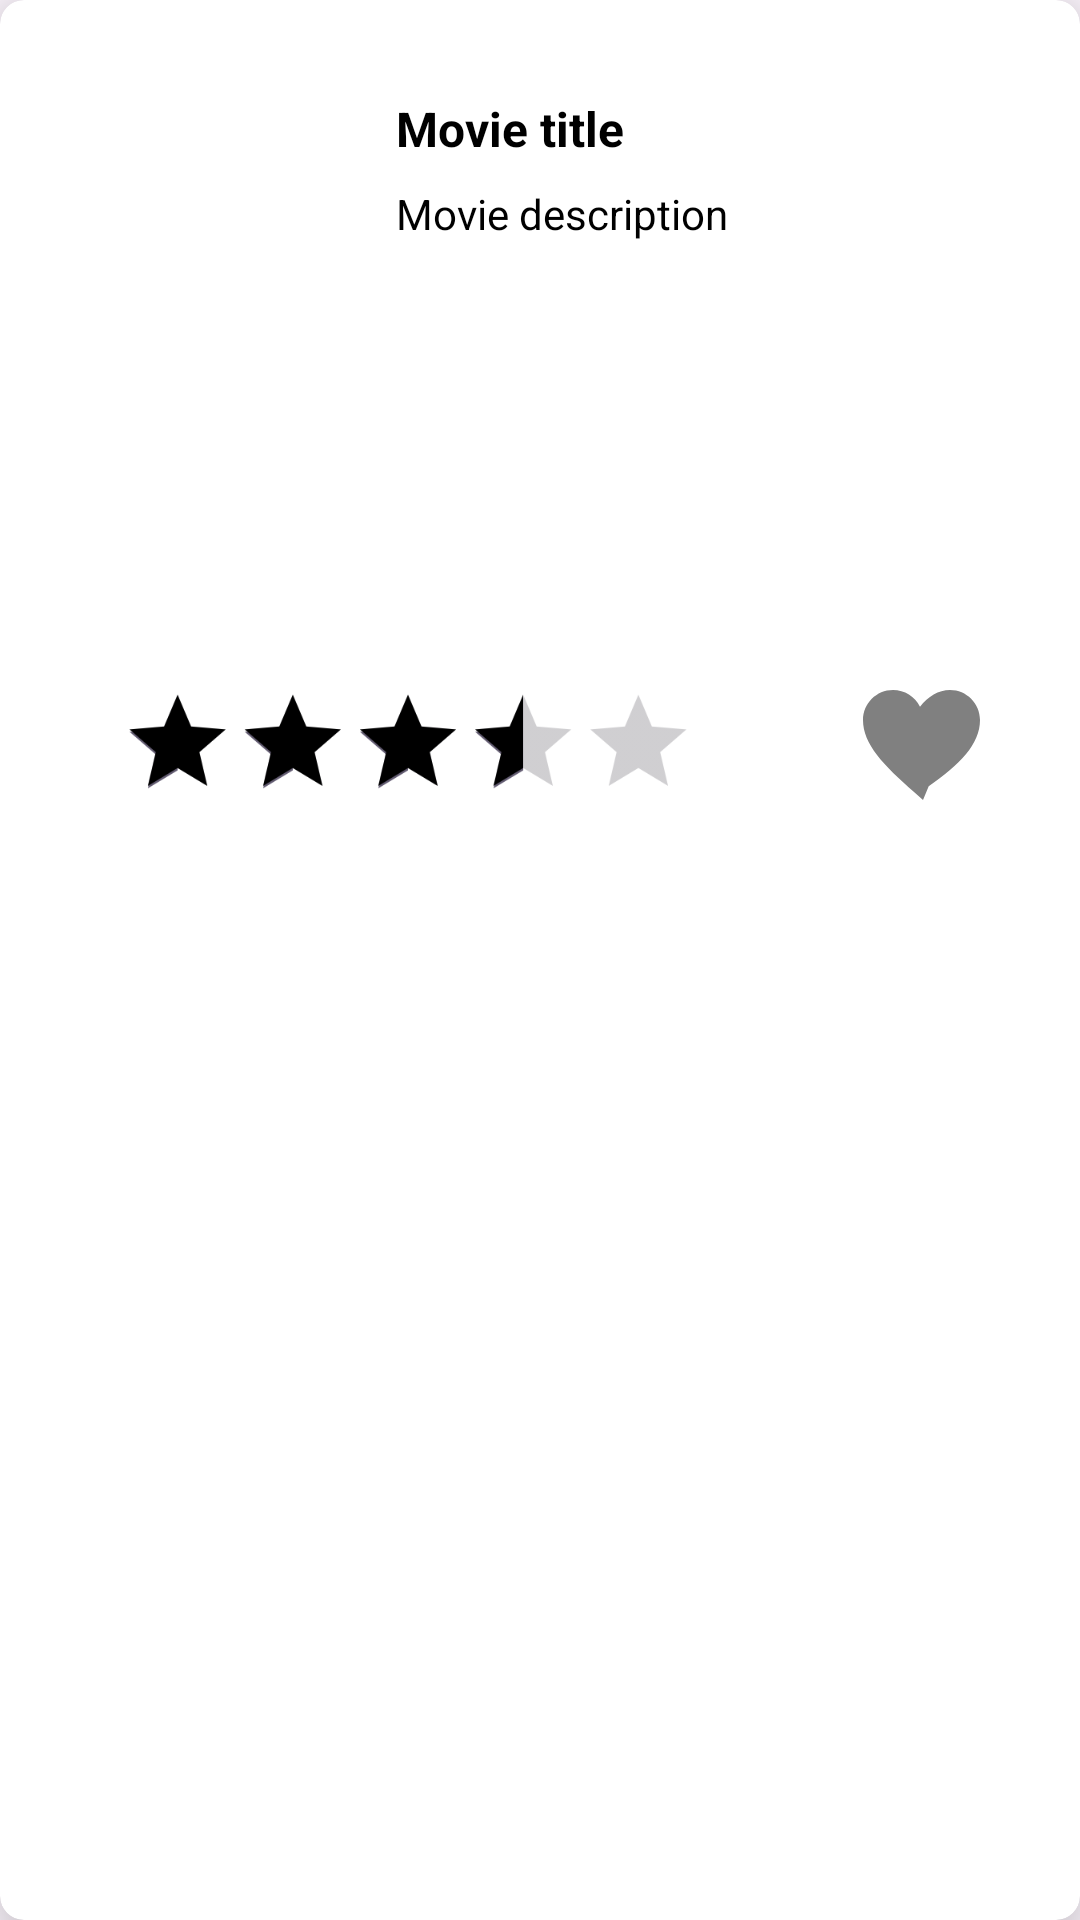

Screen size 1080 × 1920. Icon name, then its box in pixels as [left=x1, top=y1, right=x2, bottom=y2]:
favorite: [left=863, top=690, right=980, bottom=800]
